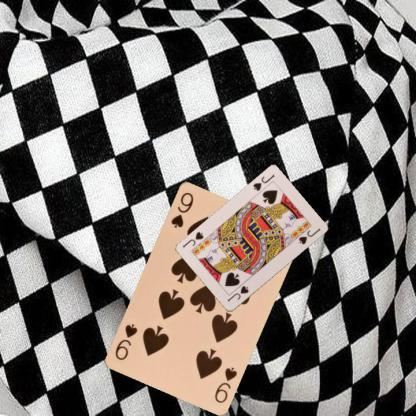9s: (168, 189, 195, 229), (211, 364, 238, 404)
Js: (224, 283, 250, 303), (250, 172, 276, 192)
